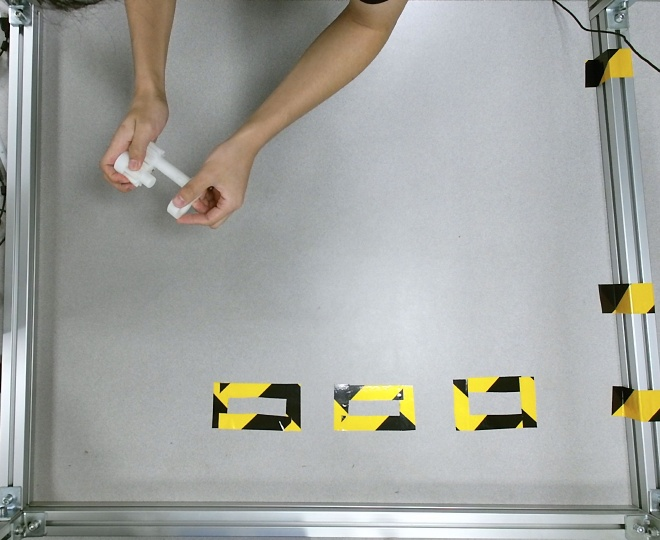stage_3: (114, 141, 191, 188)
